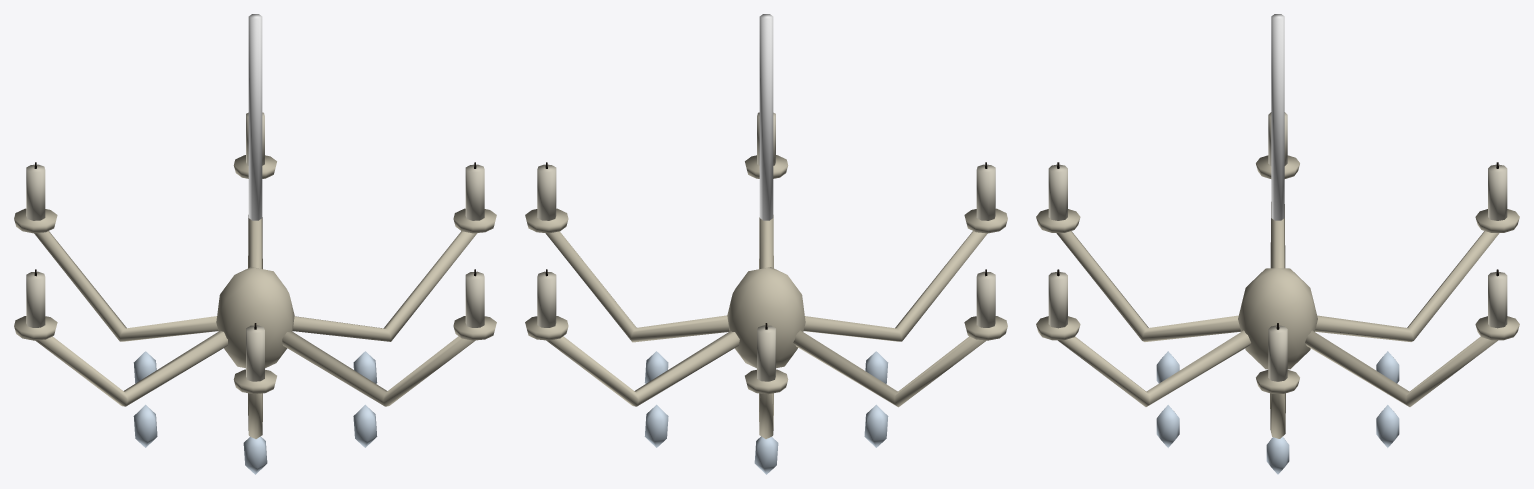
File: bone_chandelier_v0.glb
3 views of the same model, side by side, from view 1: azimuth 30°, elevation 25°; view 2: azimuth 150°, elevation 25°; view 3: azimuth 270°, elevation 25° (orthographic).
Parts seen in each view (by area): view 1: bone_chandelier_v0; view 2: bone_chandelier_v0; view 3: bone_chandelier_v0.
Boxes of the visible parts, x1,y1,x2,y2 form: bone_chandelier_v0: (14,14,496,474); bone_chandelier_v0: (525,14,1007,474); bone_chandelier_v0: (1036,14,1519,474).
Size of the model in its own units: 1.24 by 1 by 1.09.
